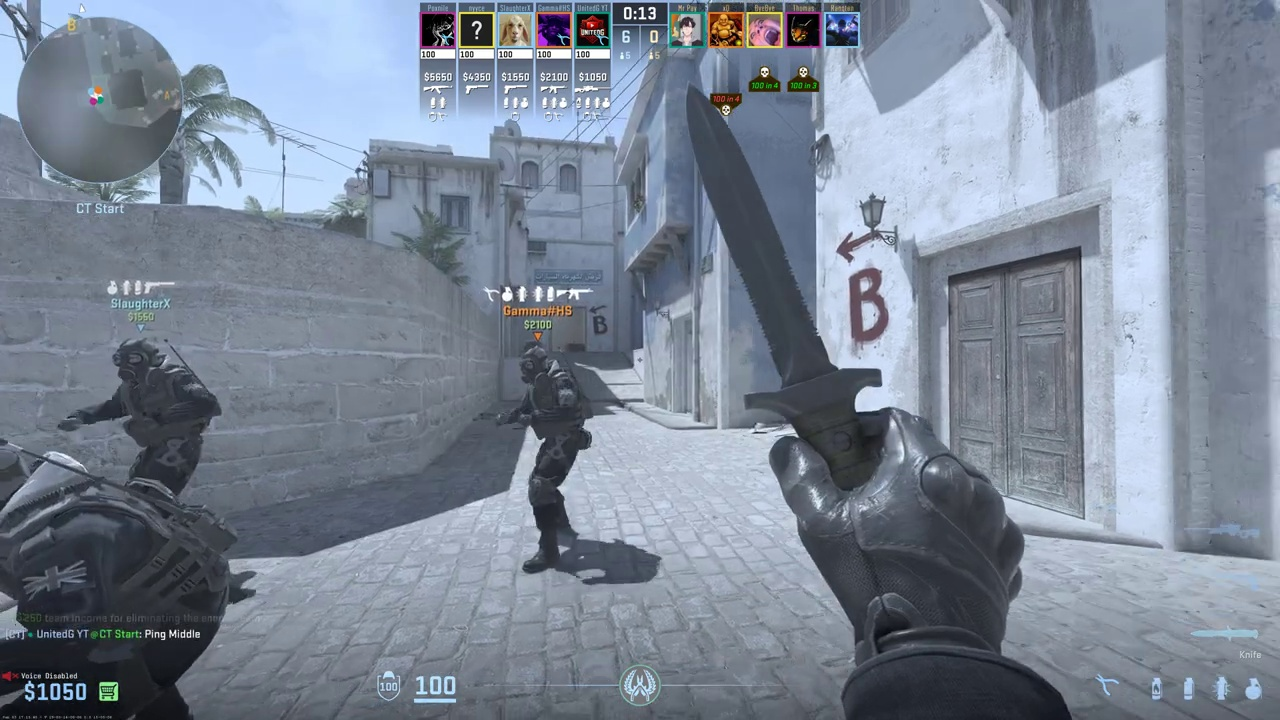CT: (1, 441, 227, 716), (518, 347, 587, 573), (114, 337, 206, 504)
